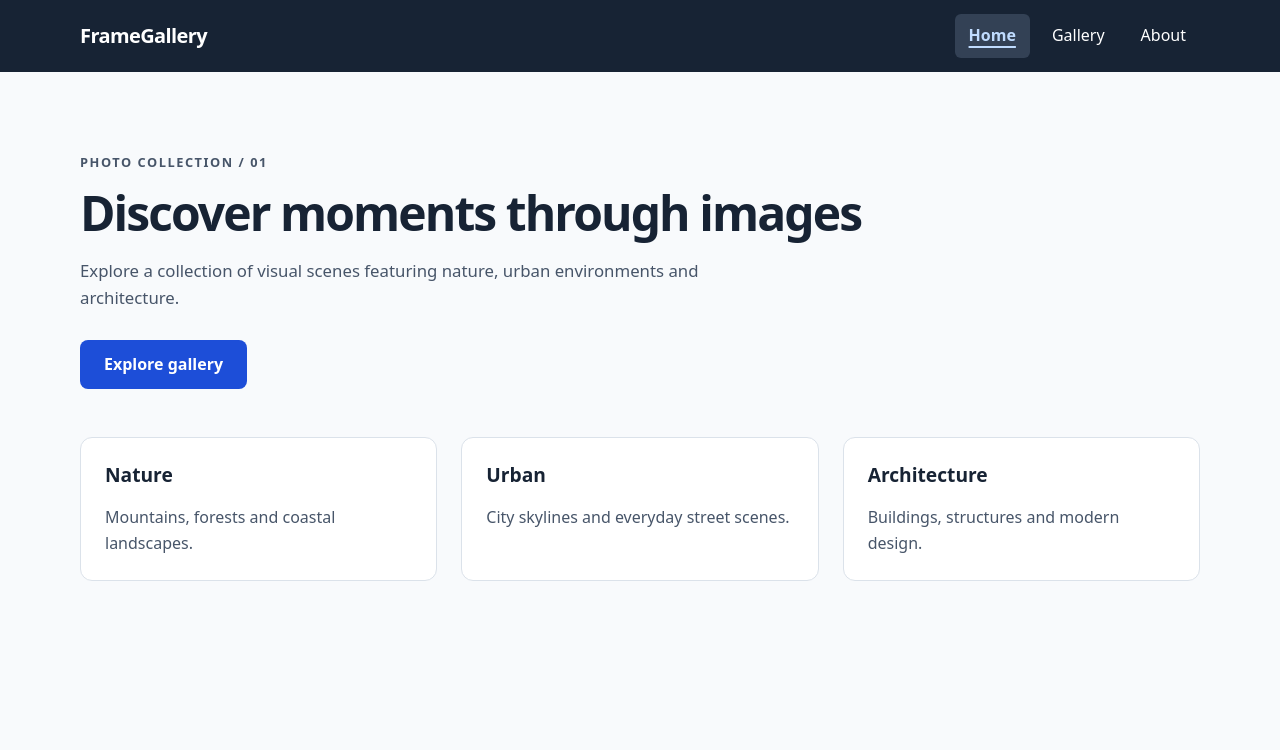
Application routing › navigates to the gallery page
The width and height of the screenshot is (1280, 750).
Click the link "Gallery".
click(1078, 35)  # box [1052,24,1105,46]
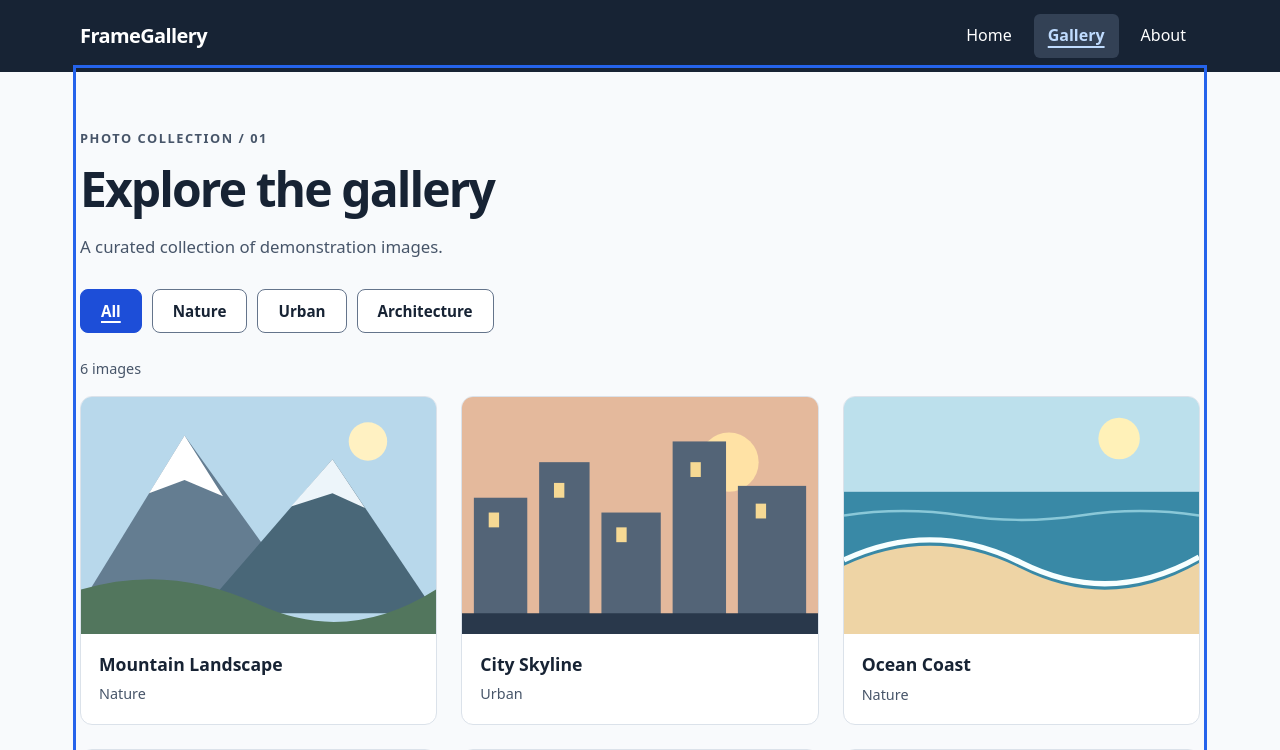
Check: the heading "Explore the gallery" is shown, box [80,156,494,222]
